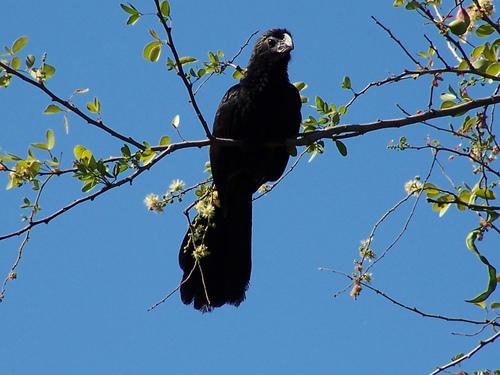004.Groove_billed_Ani: (177, 29, 304, 313)
